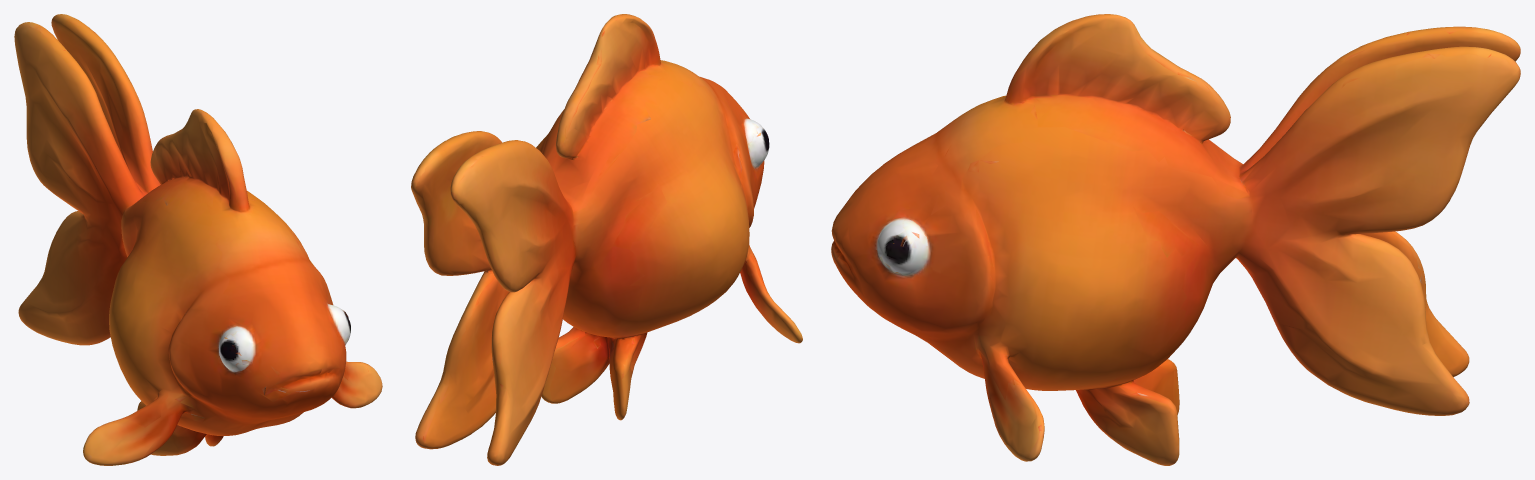
The model's file is fish_goldfish.glb.
3 views of the same model, side by side, from view 1: azimuth 30°, elevation 25°; view 2: azimuth 150°, elevation 25°; view 3: azimuth 270°, elevation 25° (orthographic). The views are drawn at different scales.
Visible parts, largest first — view 1: Mesh_0; view 2: Mesh_0; view 3: Mesh_0.
Boxes of the visible parts, left/top/right/bottom form: Mesh_0: left=14, top=14, right=382, bottom=465; Mesh_0: left=411, top=14, right=802, bottom=465; Mesh_0: left=831, top=14, right=1520, bottom=465.
Bounding box in the file's own units: 1.17 × 1.32 × 1.91.
Materials: 1 (1 with a texture image).
